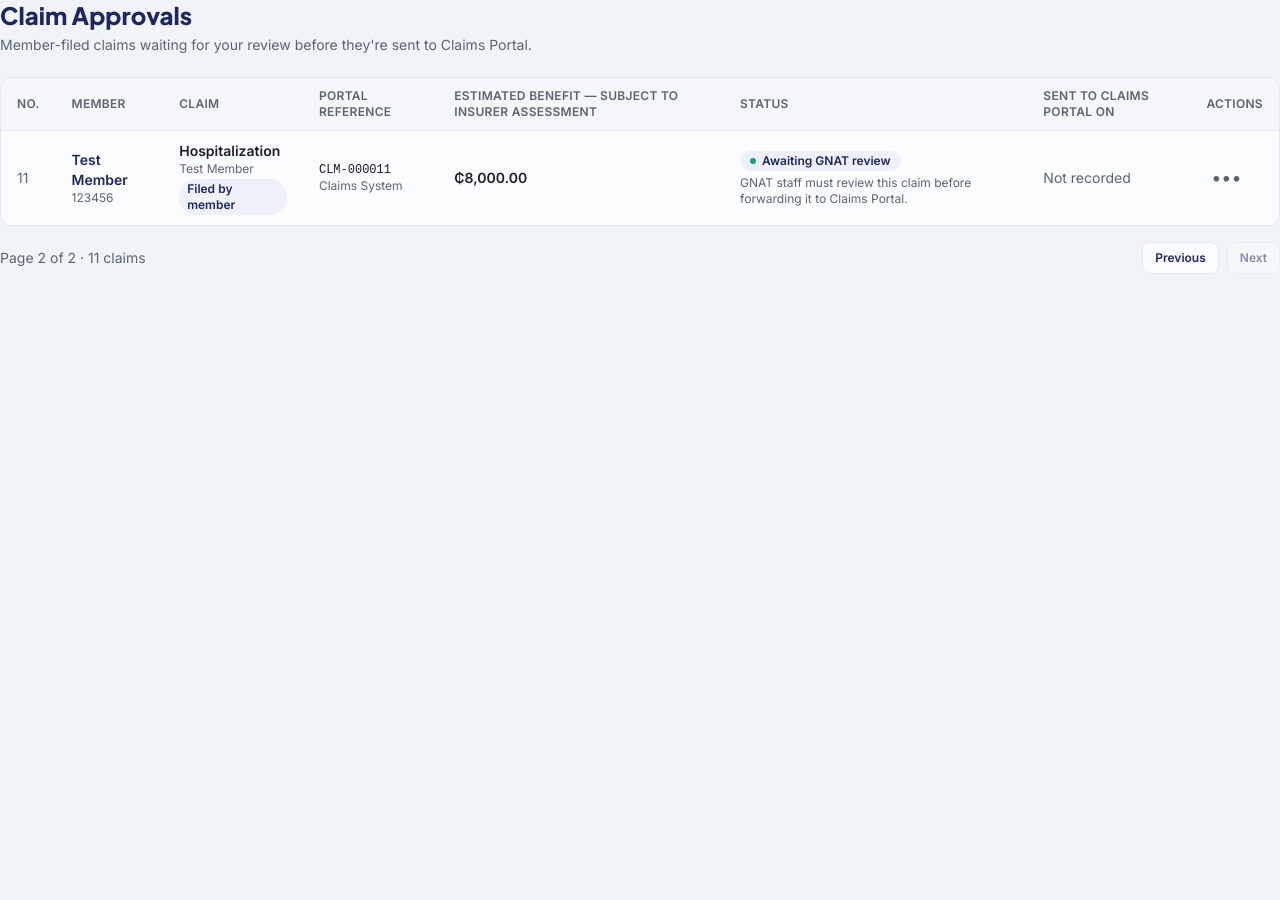
it: numbers server-paginated approvals and returns to the previous page after its last review
Check: the text "CLM-000011" is shown, box [319,163,391,177]
Check: the number of rows is 2, box [1,78,1279,130]; [1,130,1279,225]
Click the button named "Actions for this". click: (1226, 178)
box: [1206,158,1246,198]
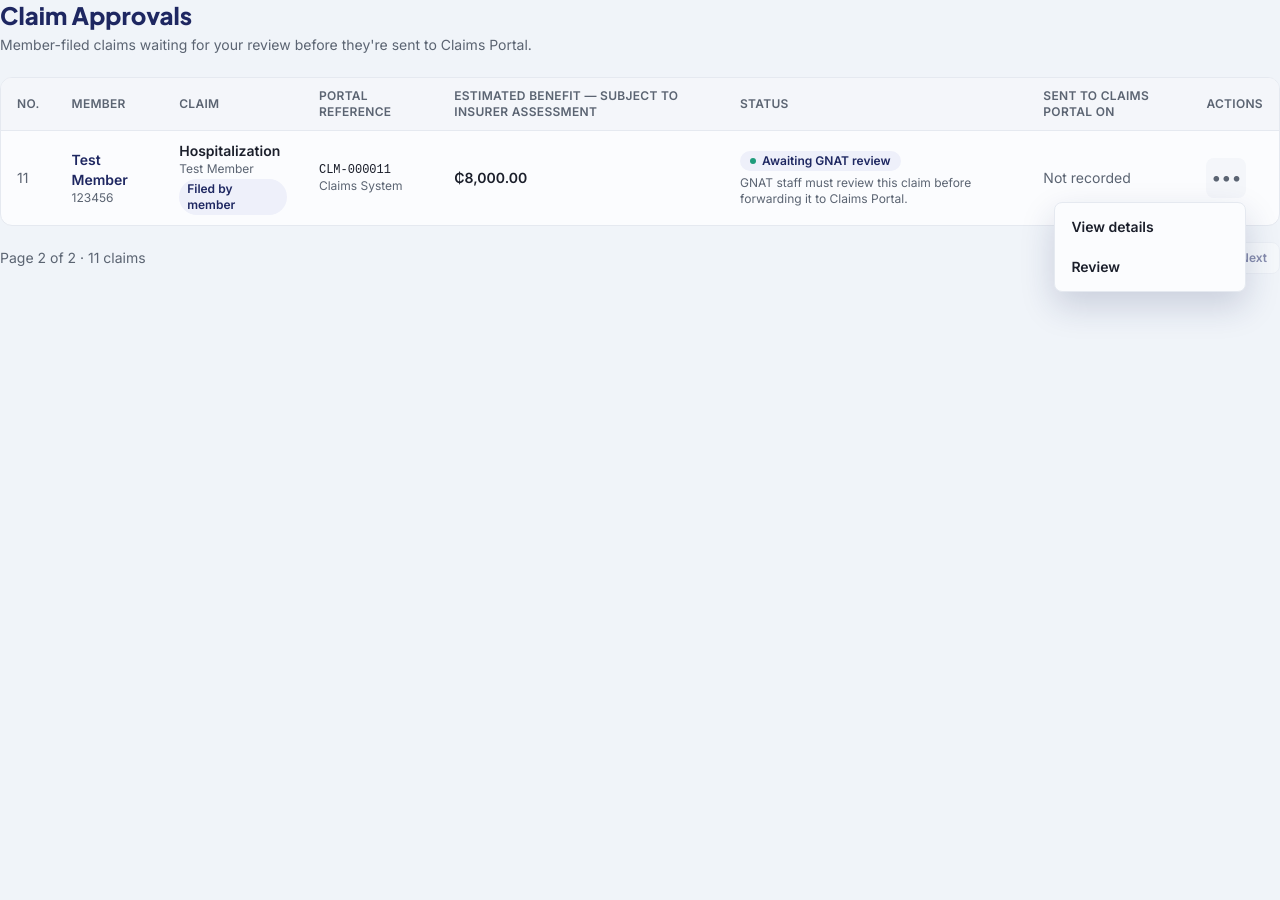
Click the menu item "Review". click: (1150, 267)
box: [1059,247,1241,287]
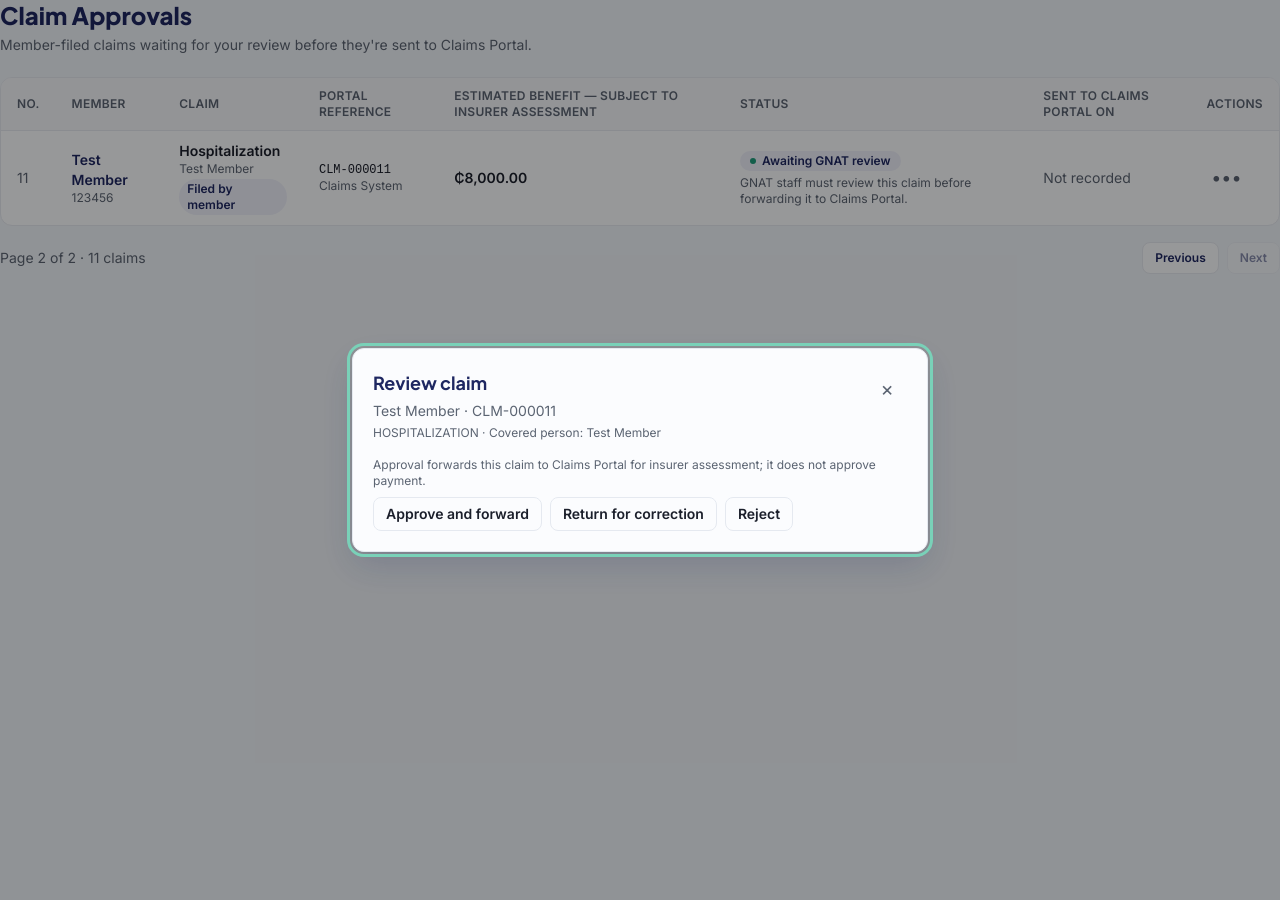
Click the button "Approve and forward". click: (457, 514)
box: [373,497,542,531]
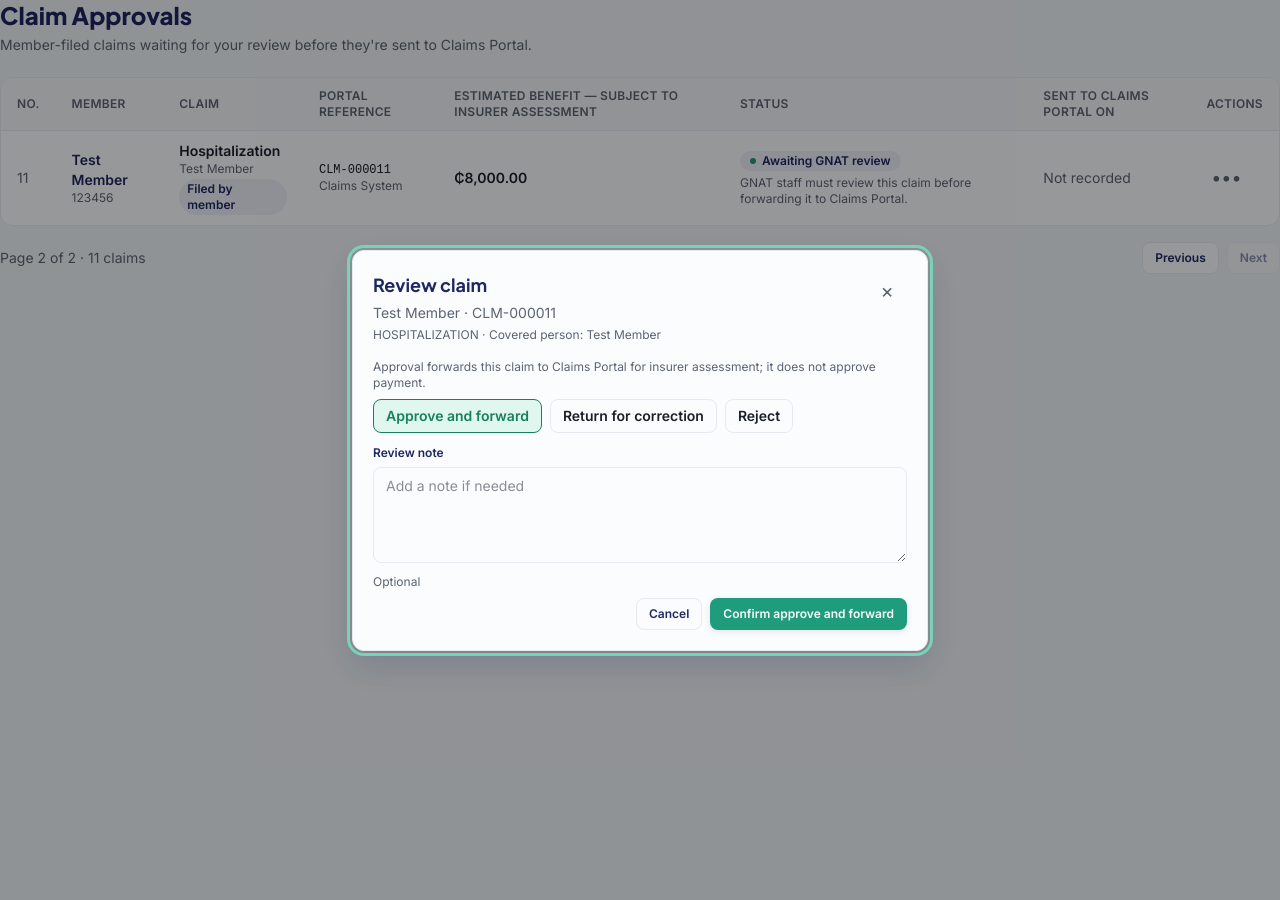
Click the button "Confirm approve and forward". click: (809, 614)
box: [710,598,907,630]
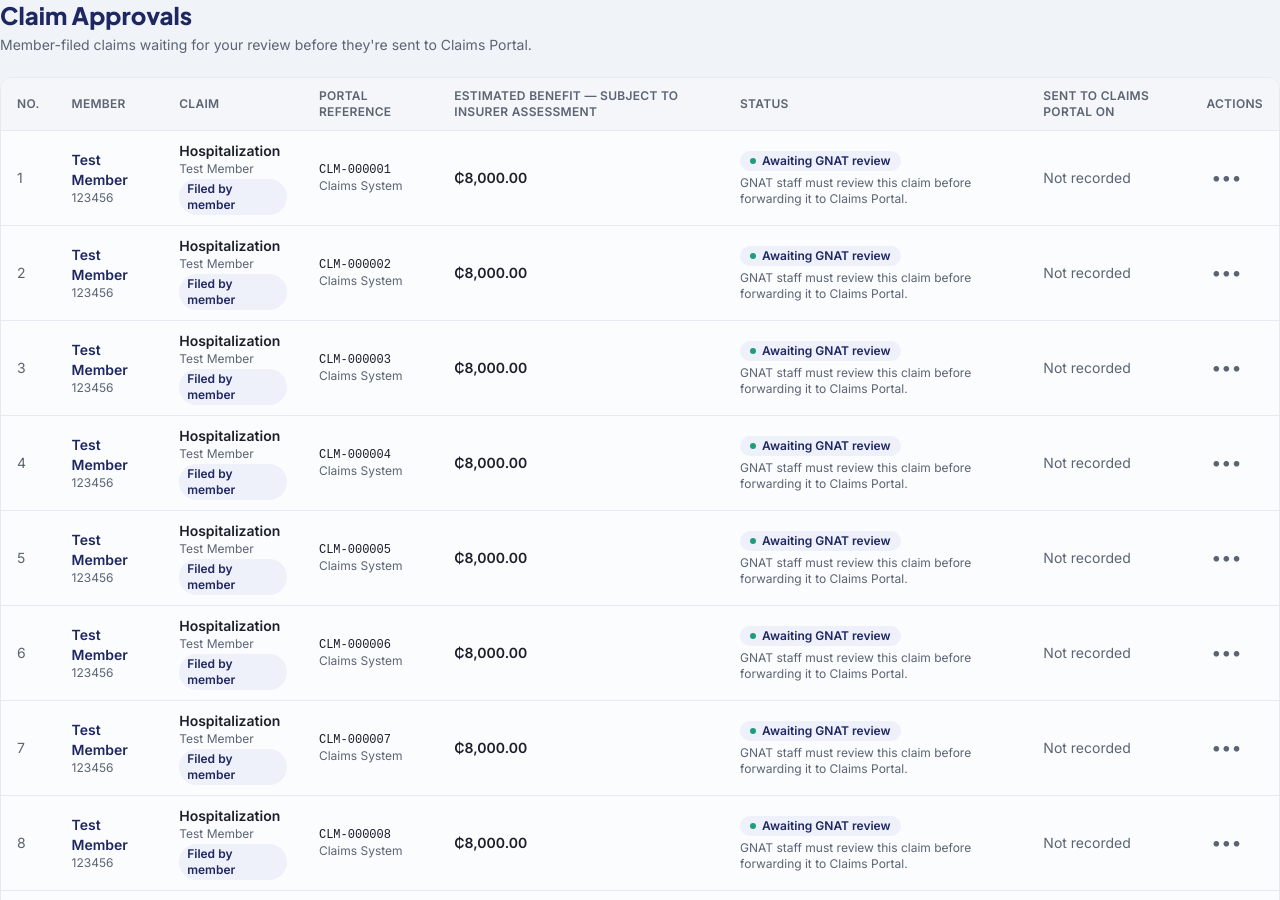
Check: the text "CLM-000001" is shown, box [319,163,391,177]
Check: the dialog is gone
Check: the cell "1" is shown, box [1,130,56,225]
